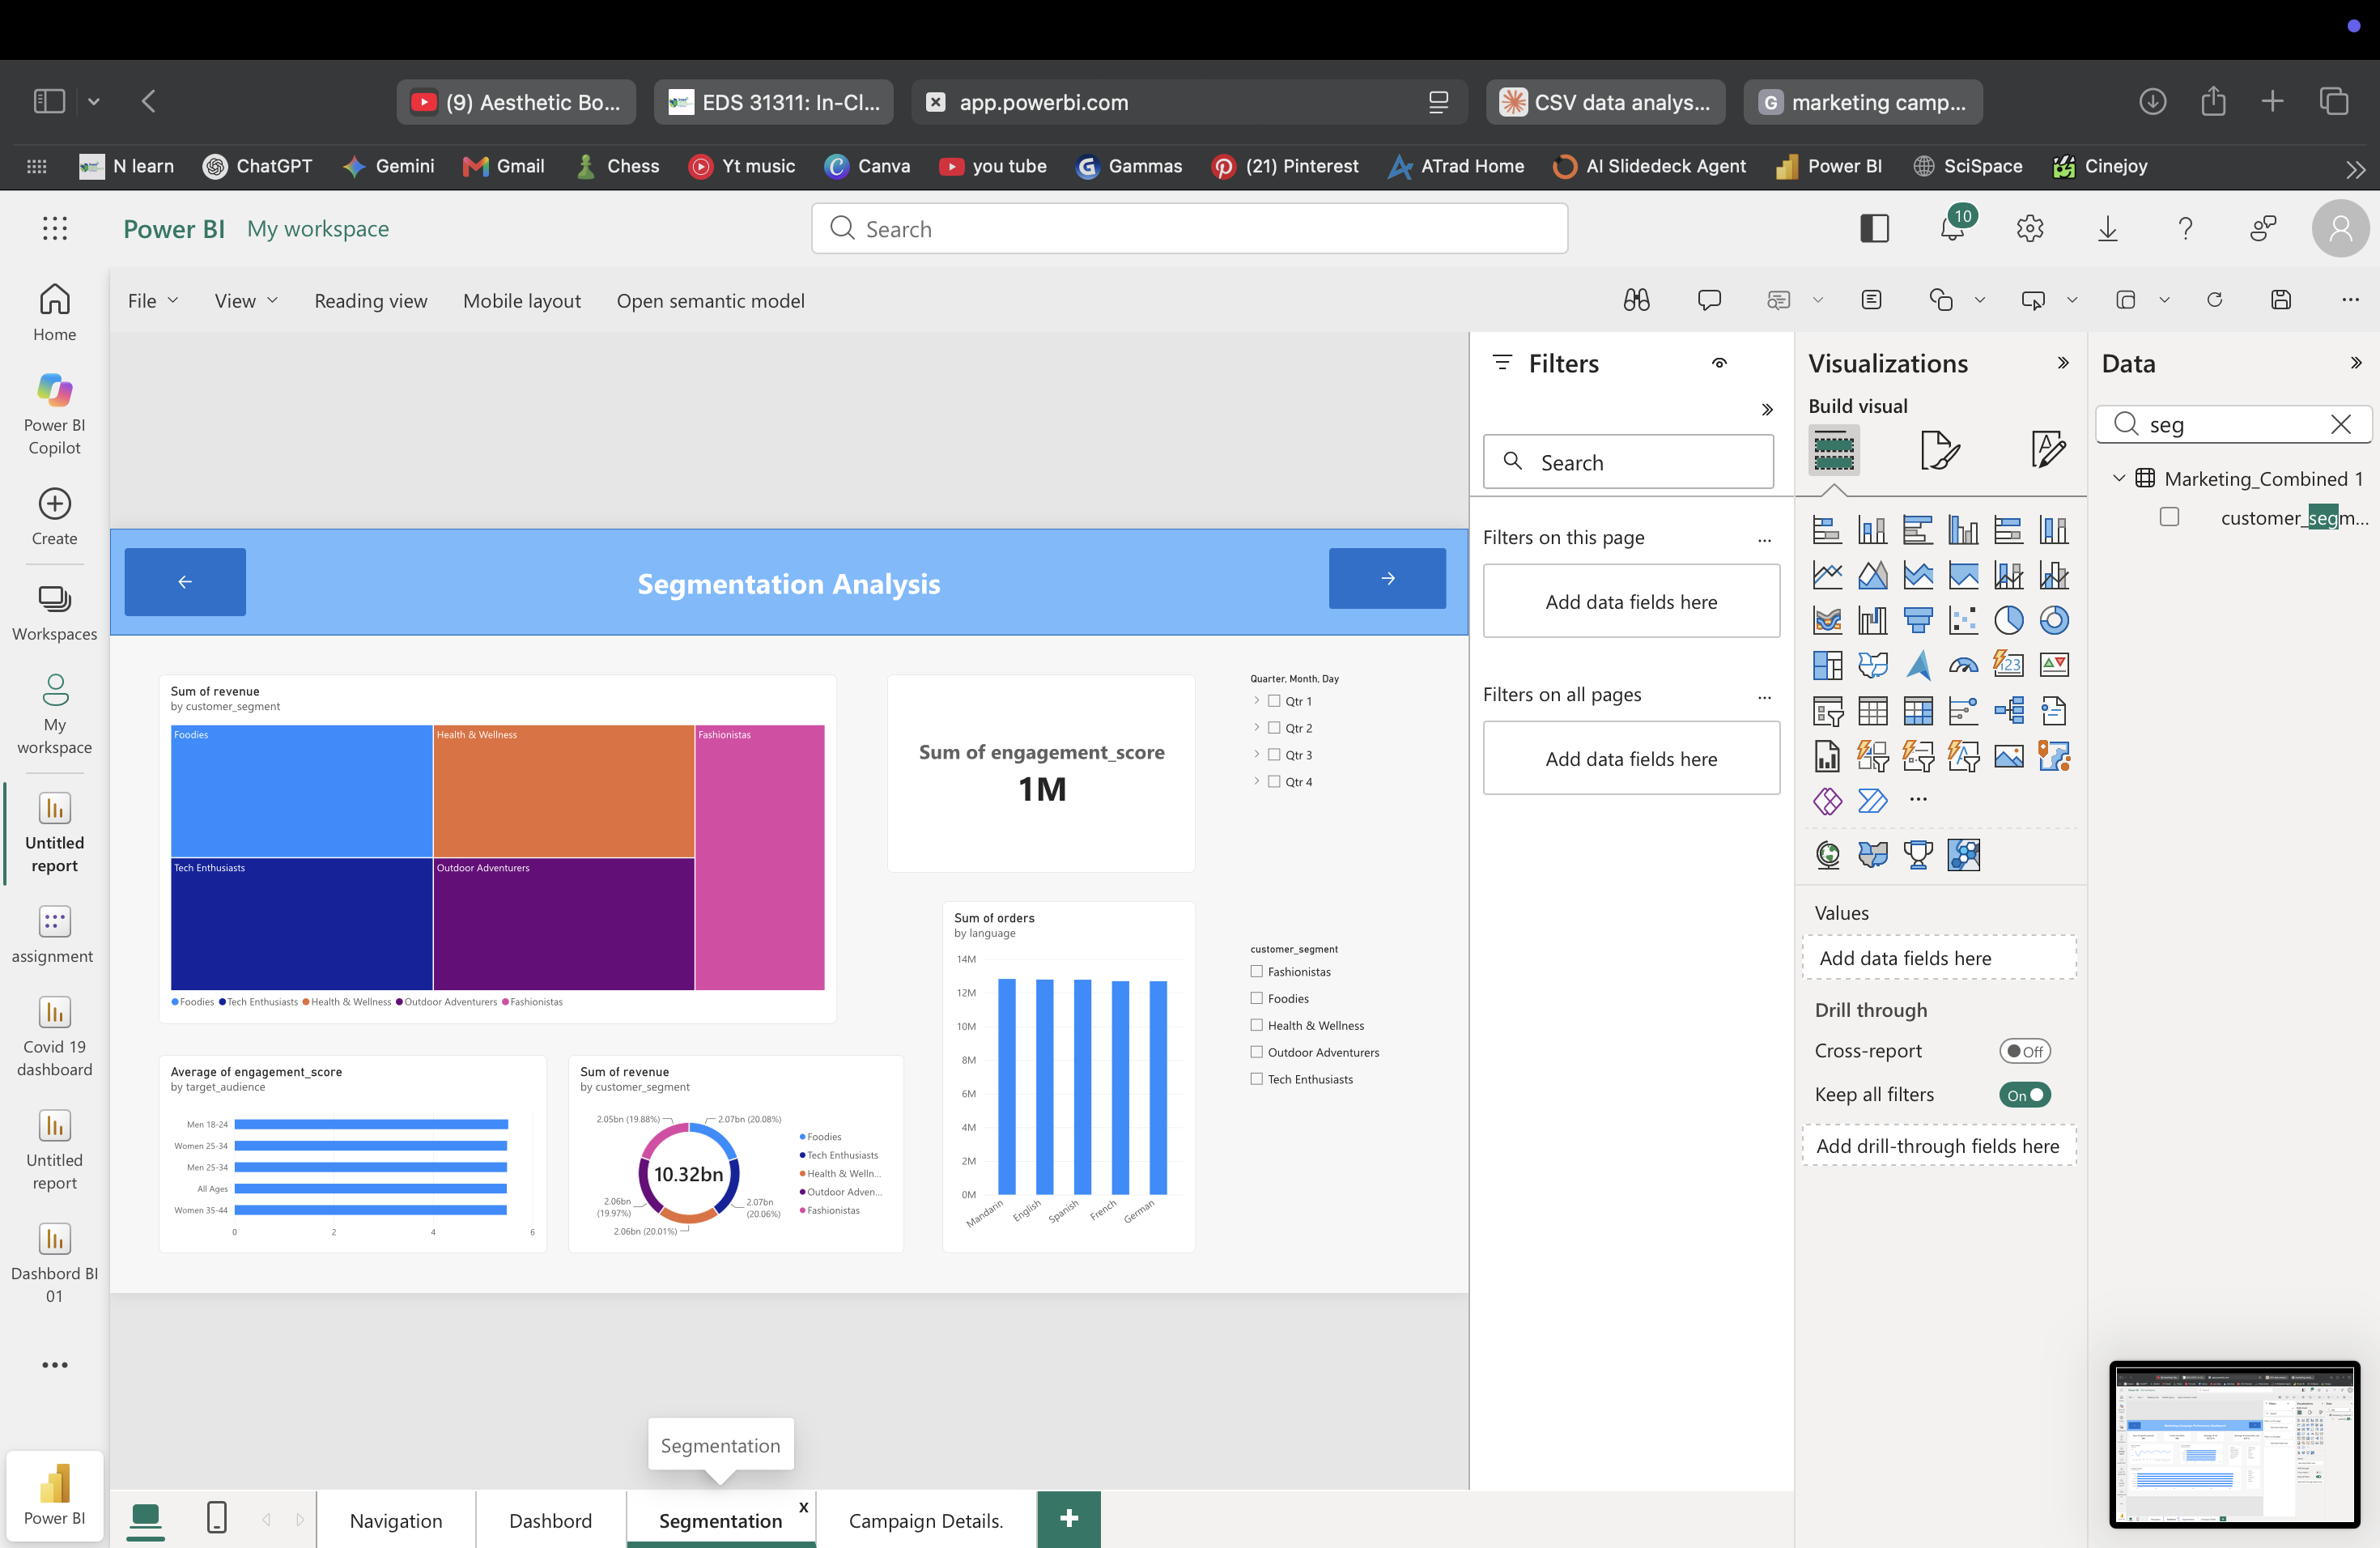

The dashboard page shown, as its layout file describes it:
{"tool":"powerbi","page":{"name":"Segmentation ","canvas":[1920,1080],"ordinal":3},"visuals":[{"type":"donutChart","fields":{"Category":["Marketing_Combined 1.customer_segment"],"Y":["Sum(Marketing_Combined 1.revenue)"]},"box":[648.3,743.6,474.8,280.3],"z":0},{"type":"clusteredBarChart","fields":{"Category":["Marketing_Combined 1.target_audience"],"Y":["Avg(Marketing_Combined 1.engagement_score)"]},"box":[68.6,743.6,549.1,280.3],"z":1000},{"type":"clusteredColumnChart","fields":{"Category":["Marketing_Combined 1.language"],"Y":["Sum(Marketing_Combined 1.orders)"]},"box":[1176.4,526.2,358.5,497.6],"z":2000},{"type":"treemap","fields":{"Group":["Marketing_Combined 1.customer_segment"],"Values":["Sum(Marketing_Combined 1.revenue)"]},"box":[68.6,205.9,959,493.8],"z":3000},{"type":"slicer","fields":{"Values":["Marketing_Combined 1.customer_segment"]},"box":[1603.5,587.2,280.3,436.6],"z":4000},{"type":"slicer","fields":{"Values":["Marketing_Combined 1.date.Variation.Date Hierarchy.Quarter","Marketing_Combined 1.date.Variation.Date Hierarchy.Month","Marketing_Combined 1.date.Variation.Date Hierarchy.Day"]},"box":[1603.5,205.9,280.3,415.7],"z":5000},{"type":"cardVisual","fields":{"Data":["Sum(Marketing_Combined 1.engagement_score)"]},"box":[1098.2,205.9,436.6,280.3],"z":6000},{"type":"shape","box":[0,0,1920,150.6],"z":7000},{"type":"actionButton","box":[20.6,27.5,171.6,96.1],"z":7001},{"type":"actionButton","box":[1722.6,27.2,165.7,86.2],"z":7002}]}

Visuals, with their boxes on the page's 1920x1080 design canvas (x1, y1, x2, y2). These are canvas units, not pixel positions in the 2380x1548 screenshot, which may show the page scaled, cropped or inside an application window:
donutChart - Marketing_Combined 1.customer_segment x Sum(Marketing_Combined 1.revenue): 648/744/1123/1024
clusteredBarChart - Marketing_Combined 1.target_audience x Avg(Marketing_Combined 1.engagement_score): 69/744/618/1024
clusteredColumnChart - Marketing_Combined 1.language x Sum(Marketing_Combined 1.orders): 1176/526/1535/1024
treemap - Marketing_Combined 1.customer_segment x Sum(Marketing_Combined 1.revenue): 69/206/1028/700
slicer - Marketing_Combined 1.customer_segment: 1604/587/1884/1024
slicer - Marketing_Combined 1.date.Variation.Date Hierarchy.Quarter x Marketing_Combined 1.date.Variation.Date Hierarchy.Month: 1604/206/1884/622
cardVisual - Sum(Marketing_Combined 1.engagement_score): 1098/206/1535/486
shape: 0/0/1920/151
actionButton: 21/28/192/124
actionButton: 1723/27/1888/113
